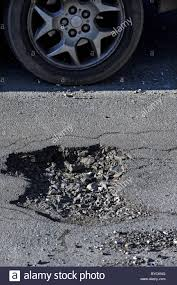pothole: (1, 126, 154, 236)
